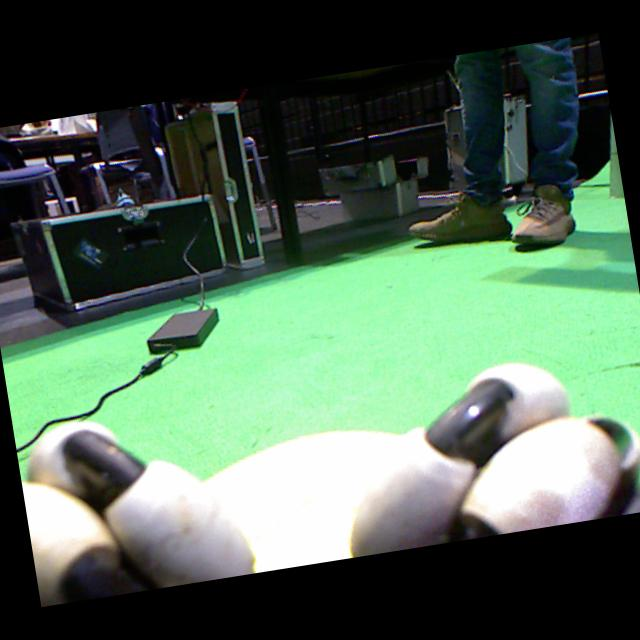ball: (201, 430, 405, 572)
